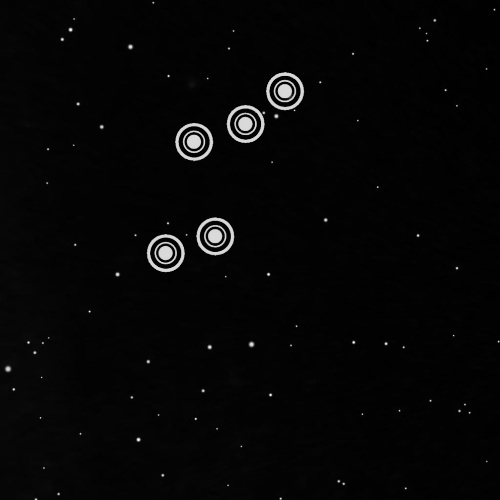lyra: (138, 60, 310, 288)
